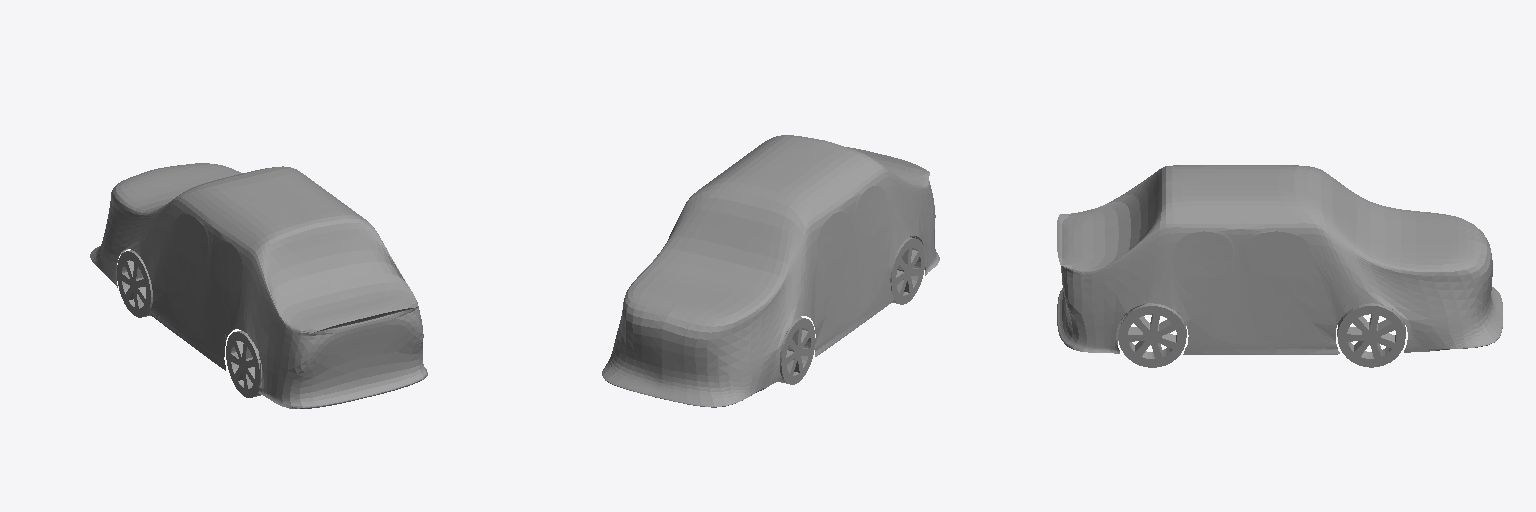
The model's file is car3.obj.
3 views of the same model, side by side, from view 1: azimuth 30°, elevation 25°; view 2: azimuth 150°, elevation 25°; view 3: azimuth 270°, elevation 25° (orthographic).
Parts seen in each view (by area): view 1: Body_Cube, Body.001_Cube.001, WheelFL_Cylinder, WheelRL_Cylinder.002; view 2: Body_Cube, Body.001_Cube.001, WheelFL_Cylinder, WheelRL_Cylinder.002; view 3: Body_Cube, Body.001_Cube.001, WheelFR_Cylinder.001, WheelRR_Cylinder.003.
Boxes of the visible parts, x1=… form: Body_Cube: x1=90, y1=163, x2=427, y2=408; Body.001_Cube.001: x1=172, y1=214, x2=242, y2=291; WheelFL_Cylinder: x1=117, y1=250, x2=152, y2=317; WheelRL_Cylinder.002: x1=226, y1=330, x2=261, y2=397; Body_Cube: x1=602, y1=135, x2=939, y2=407; Body.001_Cube.001: x1=817, y1=186, x2=887, y2=265; WheelFL_Cylinder: x1=778, y1=317, x2=815, y2=384; WheelRL_Cylinder.002: x1=890, y1=237, x2=924, y2=304; Body_Cube: x1=1057, y1=165, x2=1502, y2=354; Body.001_Cube.001: x1=1175, y1=231, x2=1314, y2=277; WheelFR_Cylinder.001: x1=1337, y1=303, x2=1405, y2=367; WheelRR_Cylinder.003: x1=1118, y1=303, x2=1186, y2=367.
Bounding box in the file's own units: 1.89 × 1.72 × 4.67.